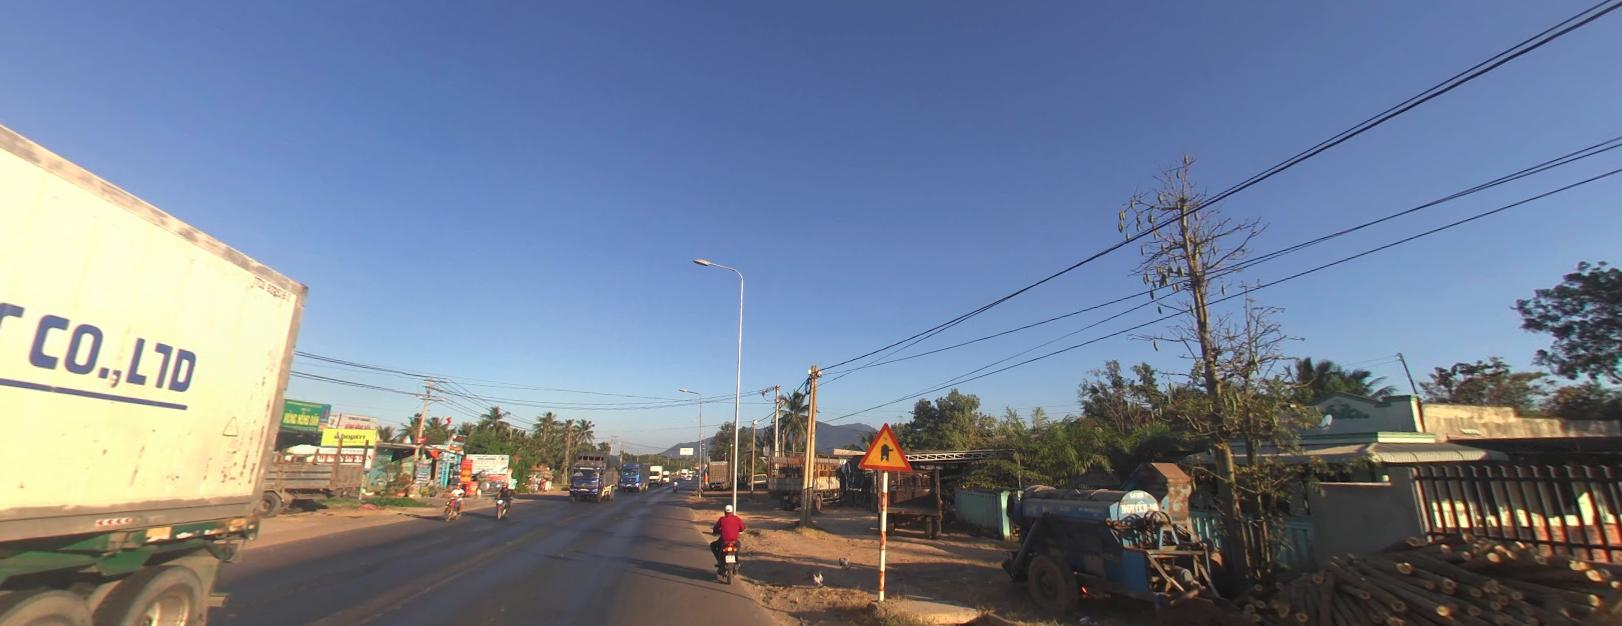Nguy hiem: (857, 422, 911, 470)
